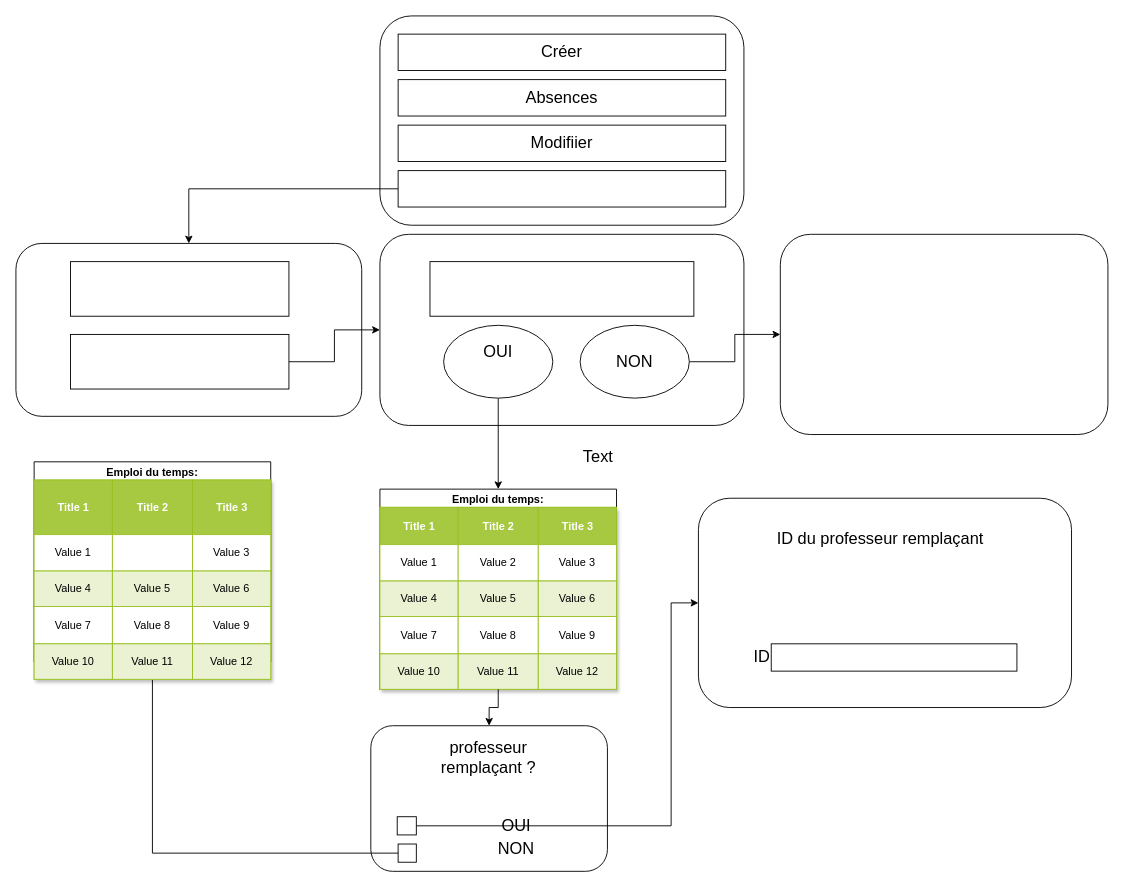
This 1124x887 diagram has some shape labels left out. Each missing label, with the centre of its shape:
Consulter: [561,188]
etudiant: [179,288]
justificati f: [561,288]
Professeur: [179,361]
Professeur Absent: [943,334]
